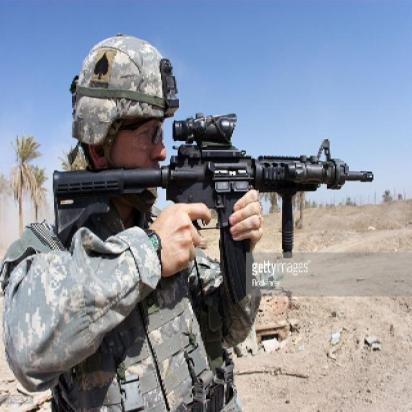Gun: (50, 113, 372, 275)
